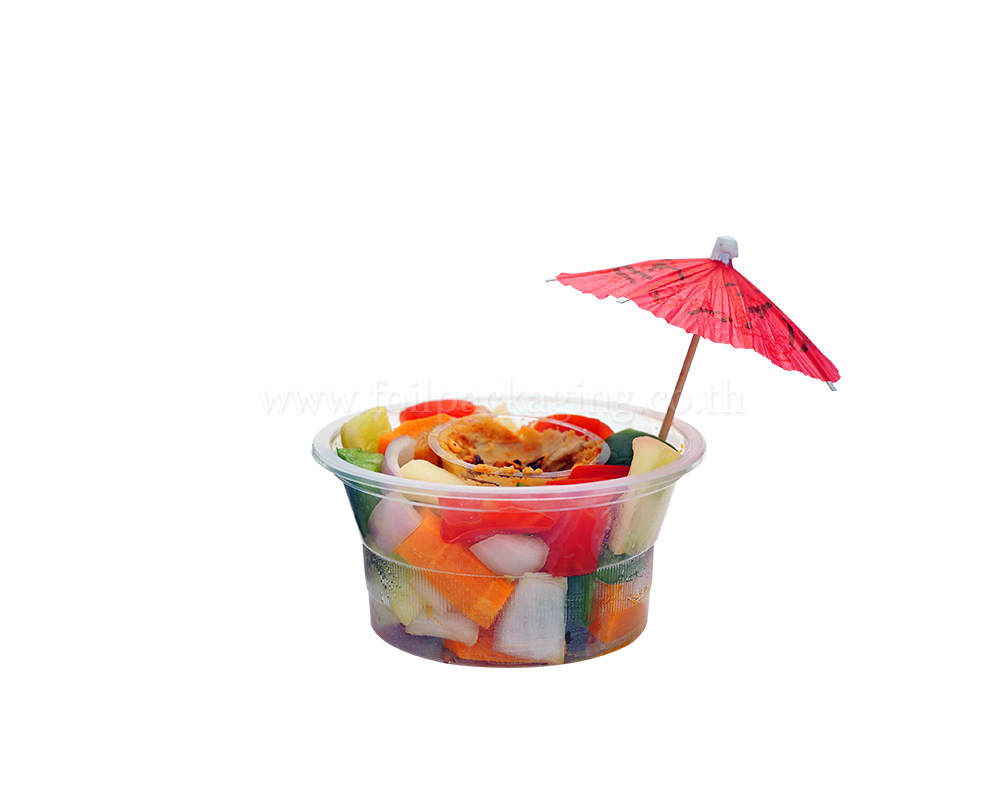plastic_glass: (300, 383, 723, 686)
